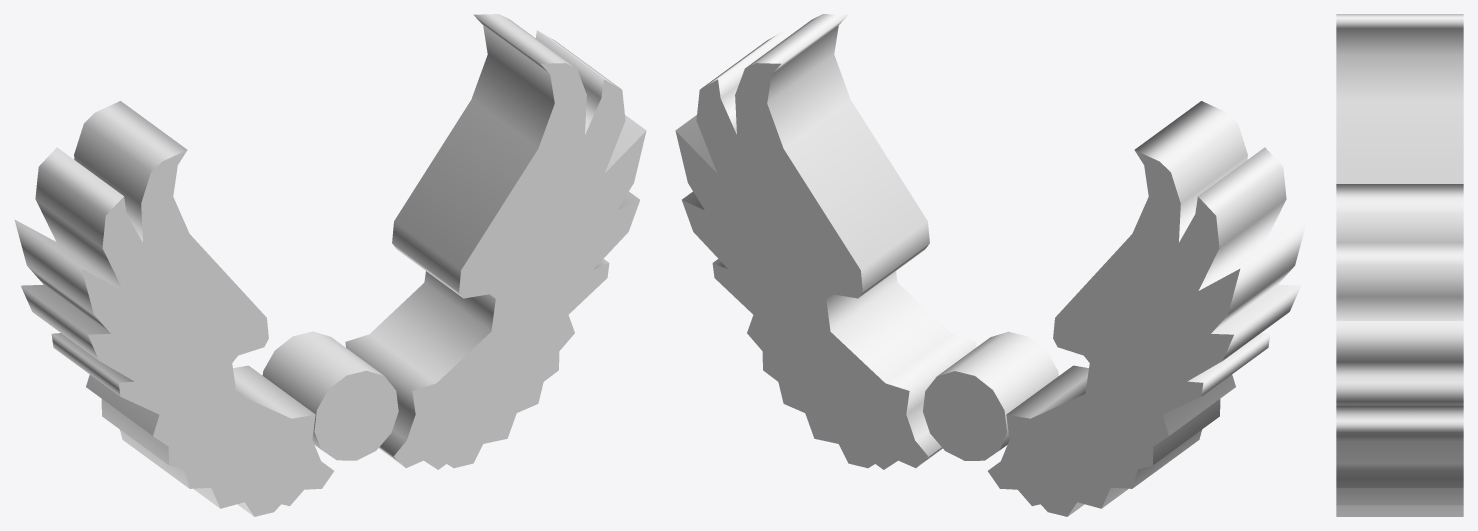
The model's file is ViewIcon.obj.
3 views of the same model, side by side, from view 1: azimuth 30°, elevation 25°; view 2: azimuth 150°, elevation 25°; view 3: azimuth 270°, elevation 25° (orthographic). The views are drawn at different scales.
Bounding box in the file's own units: 5 × 3.24 × 1.03.
1 material, 1 textured.
